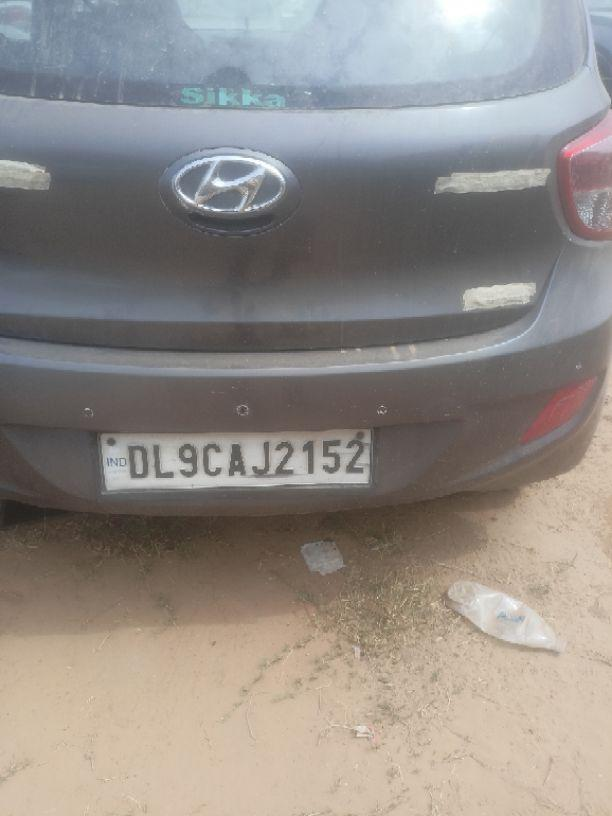license_plate: (96, 426, 374, 494)
